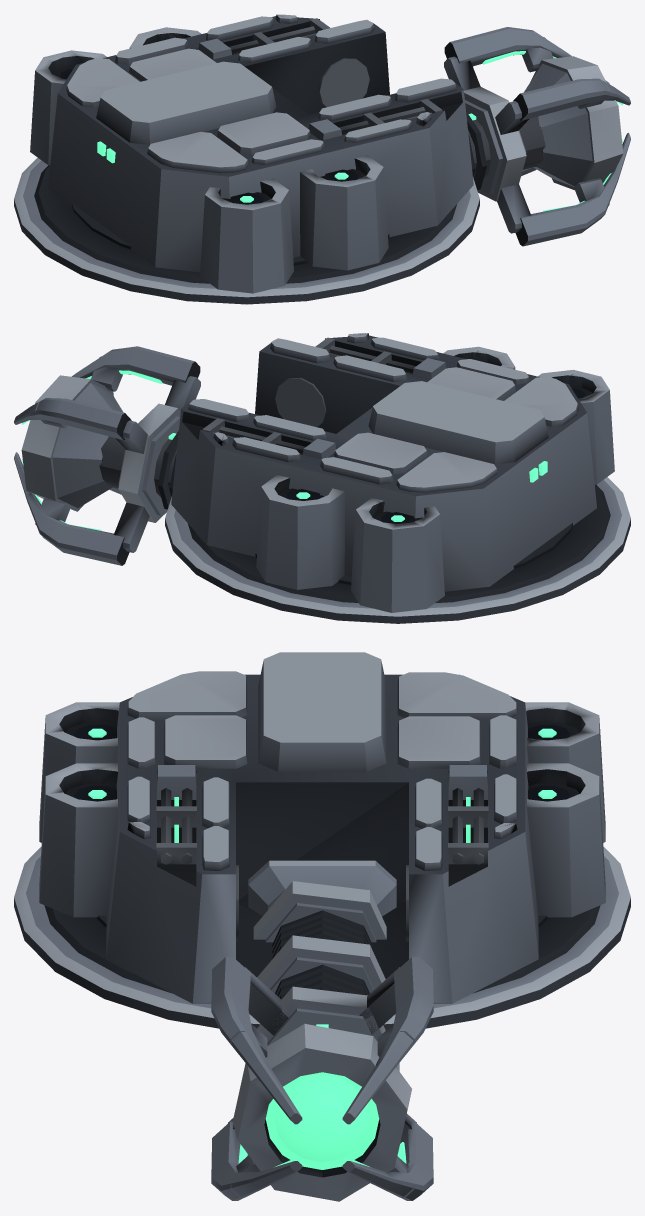
File: deathRay_lod1.glb
3 renders of one model, top to bottom at view 1: azimuth 30°, elevation 25°; view 2: azimuth 150°, elevation 25°; view 3: azimuth 270°, elevation 25°, orthographic. The views are drawn at different scales.
Visible parts, largest first — view 1: housing, barrel, ring; view 2: housing, barrel, ring; view 3: housing, barrel, ring.
Boxes of the visible parts, x1=… form: housing: x1=30, y1=14, x2=473, y2=293; barrel: x1=444, y1=27, x2=630, y2=246; ring: x1=14, y1=157, x2=479, y2=304; housing: x1=171, y1=333, x2=614, y2=612; barrel: x1=14, y1=346, x2=200, y2=565; ring: x1=165, y1=477, x2=630, y2=623; housing: x1=39, y1=652, x2=605, y2=1003; barrel: x1=211, y1=860, x2=433, y2=1201; ring: x1=14, y1=846, x2=630, y2=1030.
Bounding box in the file's own units: 70.96 × 23.79 × 49.92.
